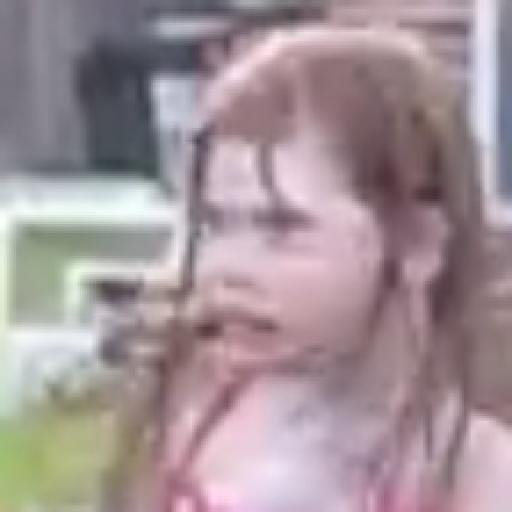Autism: (170, 40, 512, 388)
